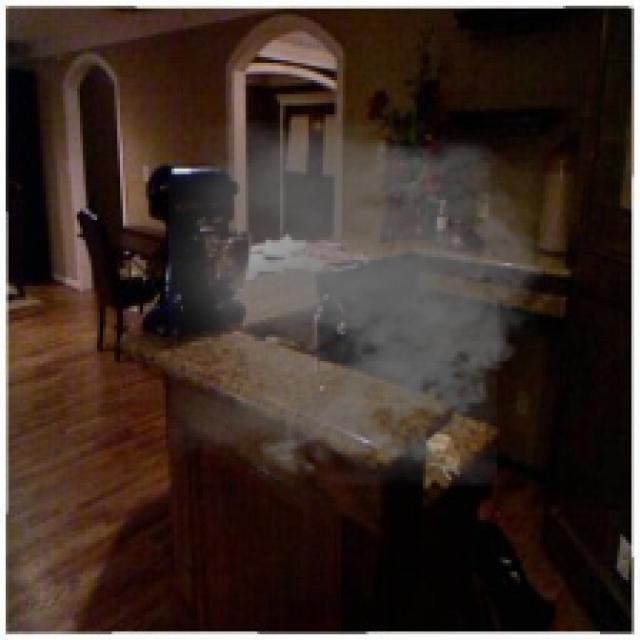Smoke: (168, 120, 563, 486)
